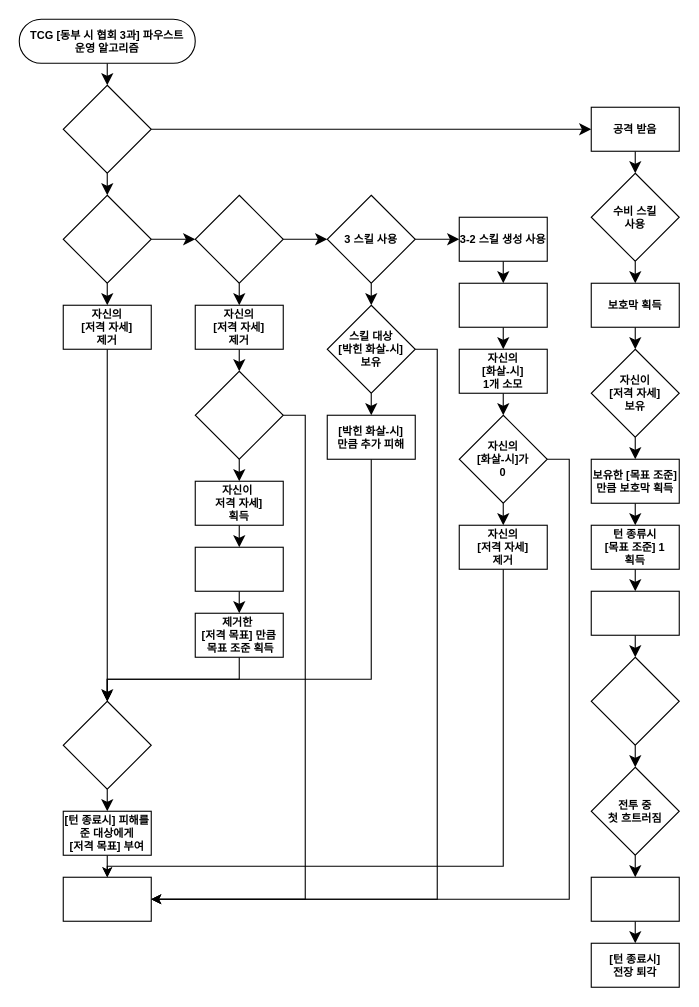
The diagram is 699 pixels wide and 1007 high, and some of its shapes have lost their labels. Here are the shapes that lost their labels. From the top down, the box of each, then its label:
(62, 84, 151, 173): 적에게 공격
(62, 194, 151, 283): 1 스킬 사용
(194, 194, 283, 283): 2 스킬 사용
(458, 282, 547, 327): 대상에게 [박힌 화살-시] 부여
(194, 370, 283, 459): 스킬 대상 [저격 목표] 보유
(194, 546, 283, 591): 대상의 [저격 목표] 모두 제거
(590, 590, 679, 635): 피해 받음
(590, 656, 679, 745): 흐트러짐
(62, 700, 151, 789): [화살-시] 1개 이상 보유
(62, 876, 151, 921): 공격 종료
(590, 876, 679, 921): 흐트러짐 해제
